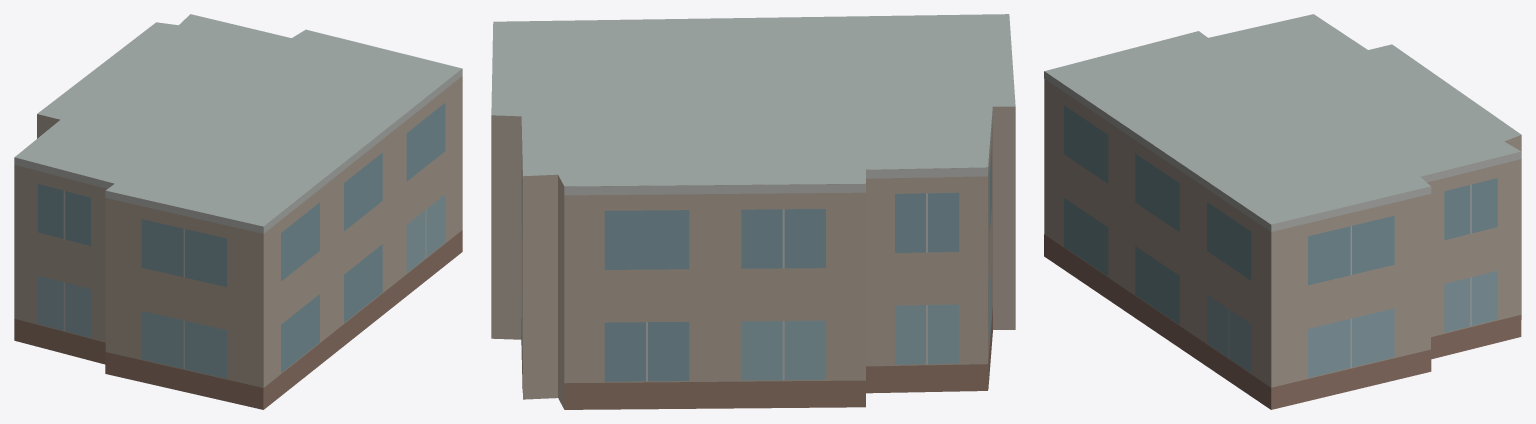
Rendered from survey-upis-32998404.glb.
The picture shows the model from 3 angles, left to right: view 1: azimuth 30°, elevation 25°; view 2: azimuth 150°, elevation 25°; view 3: azimuth 270°, elevation 25°; orthographic projection. The views are drawn at different scales.
Visible parts, largest first — view 1: survey-upis-32998404.tmp; view 2: survey-upis-32998404.tmp; view 3: survey-upis-32998404.tmp.
Boxes of the visible parts, x1,y1,x2,y2 form: survey-upis-32998404.tmp: (14,14,462,409); survey-upis-32998404.tmp: (491,14,1015,409); survey-upis-32998404.tmp: (1044,14,1521,409).
Bounding box in the file's own units: 14.88 × 6.1 × 14.26.
